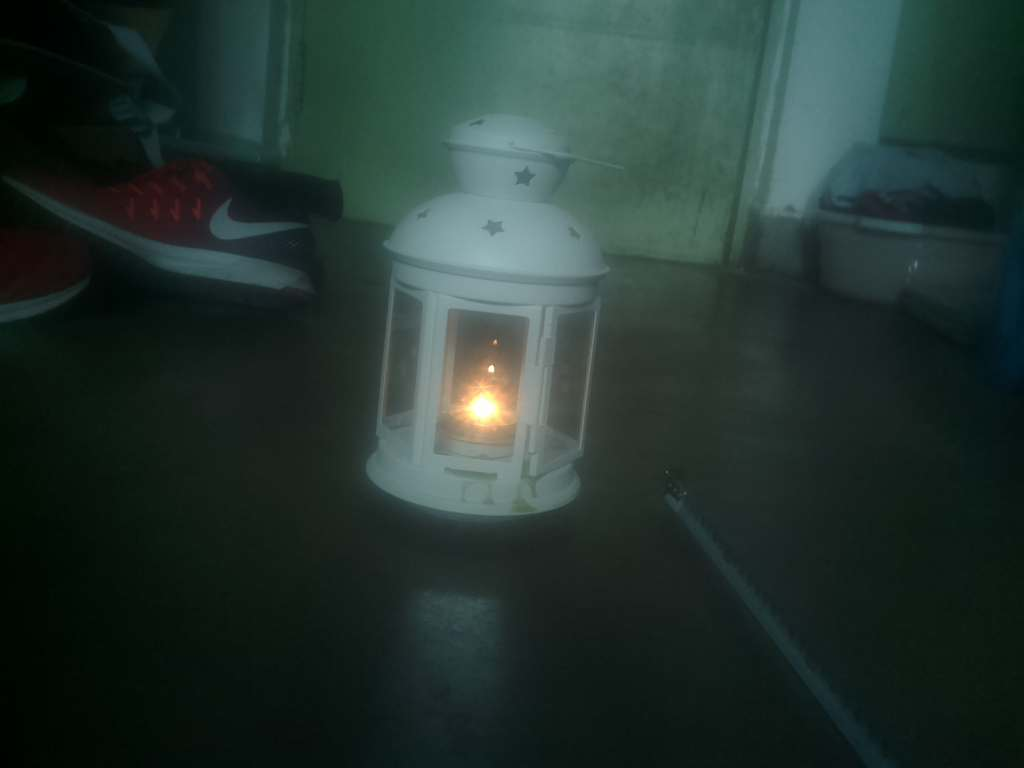fire: (444, 361, 549, 459)
